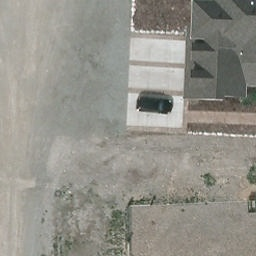car: (136, 95, 174, 117)
